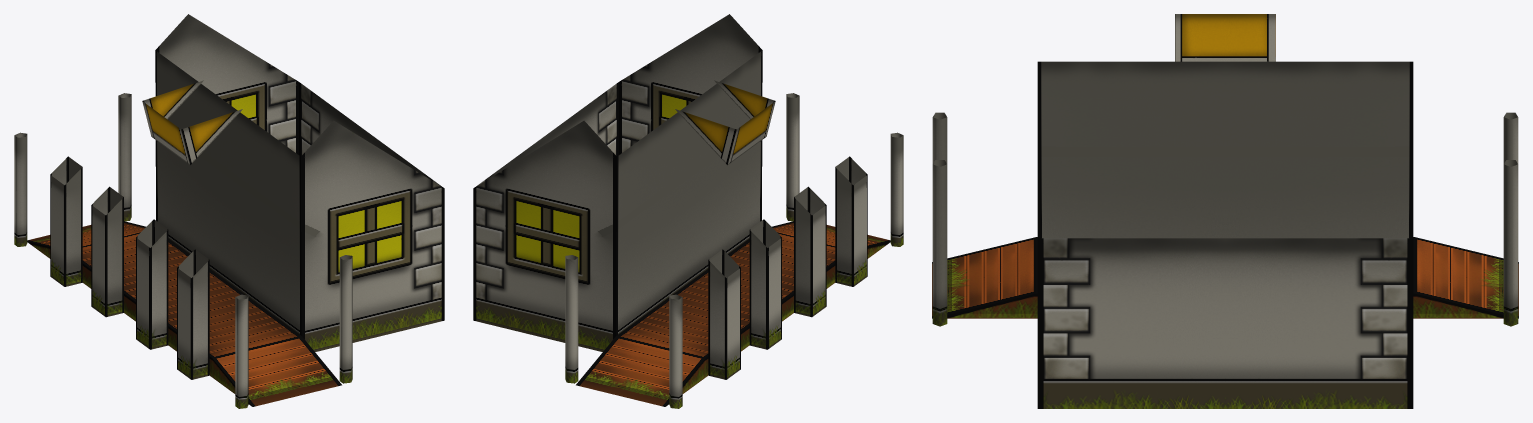
The model's file is house_06.FBX.
3 renders of one model, left to right at view 1: azimuth 30°, elevation 25°; view 2: azimuth 150°, elevation 25°; view 3: azimuth 270°, elevation 25°, orthographic. The views are drawn at different scales.
Parts seen in each view (by area): view 1: house_06; view 2: house_06; view 3: house_06.
Part boxes in pixels (x1,y1,x2,y2): house_06: [14, 14, 444, 408]; house_06: [473, 14, 903, 408]; house_06: [932, 14, 1518, 408].
Bounding box in the file's own units: 868 × 751 × 1360.
